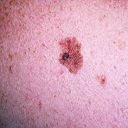Melanoma: (58, 36, 85, 75)
